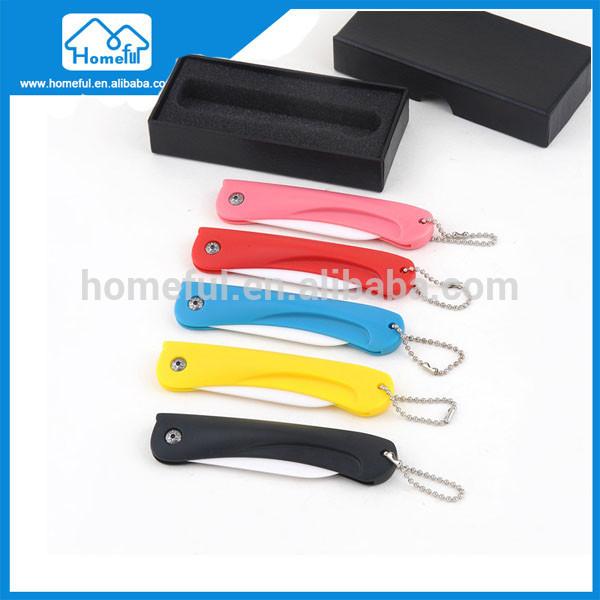knief: (131, 403, 486, 515)
